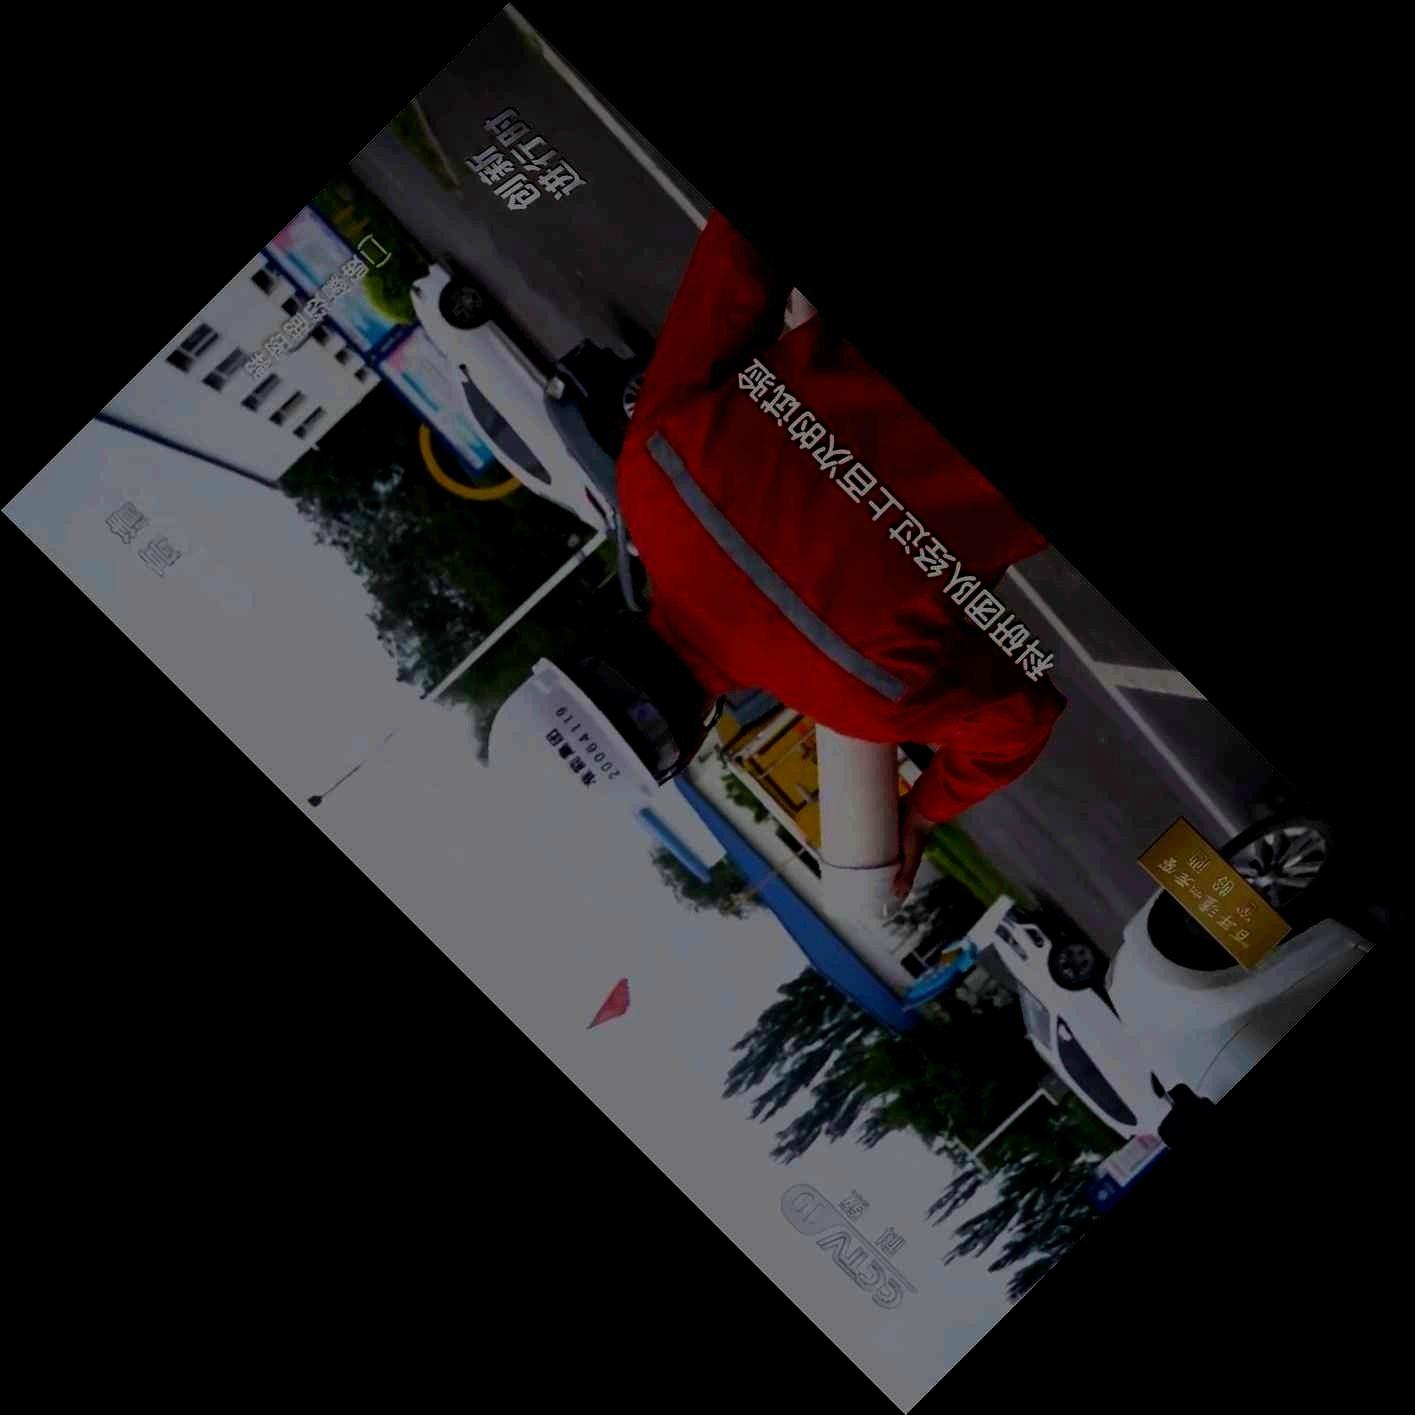helmet: (487, 609, 714, 833)
